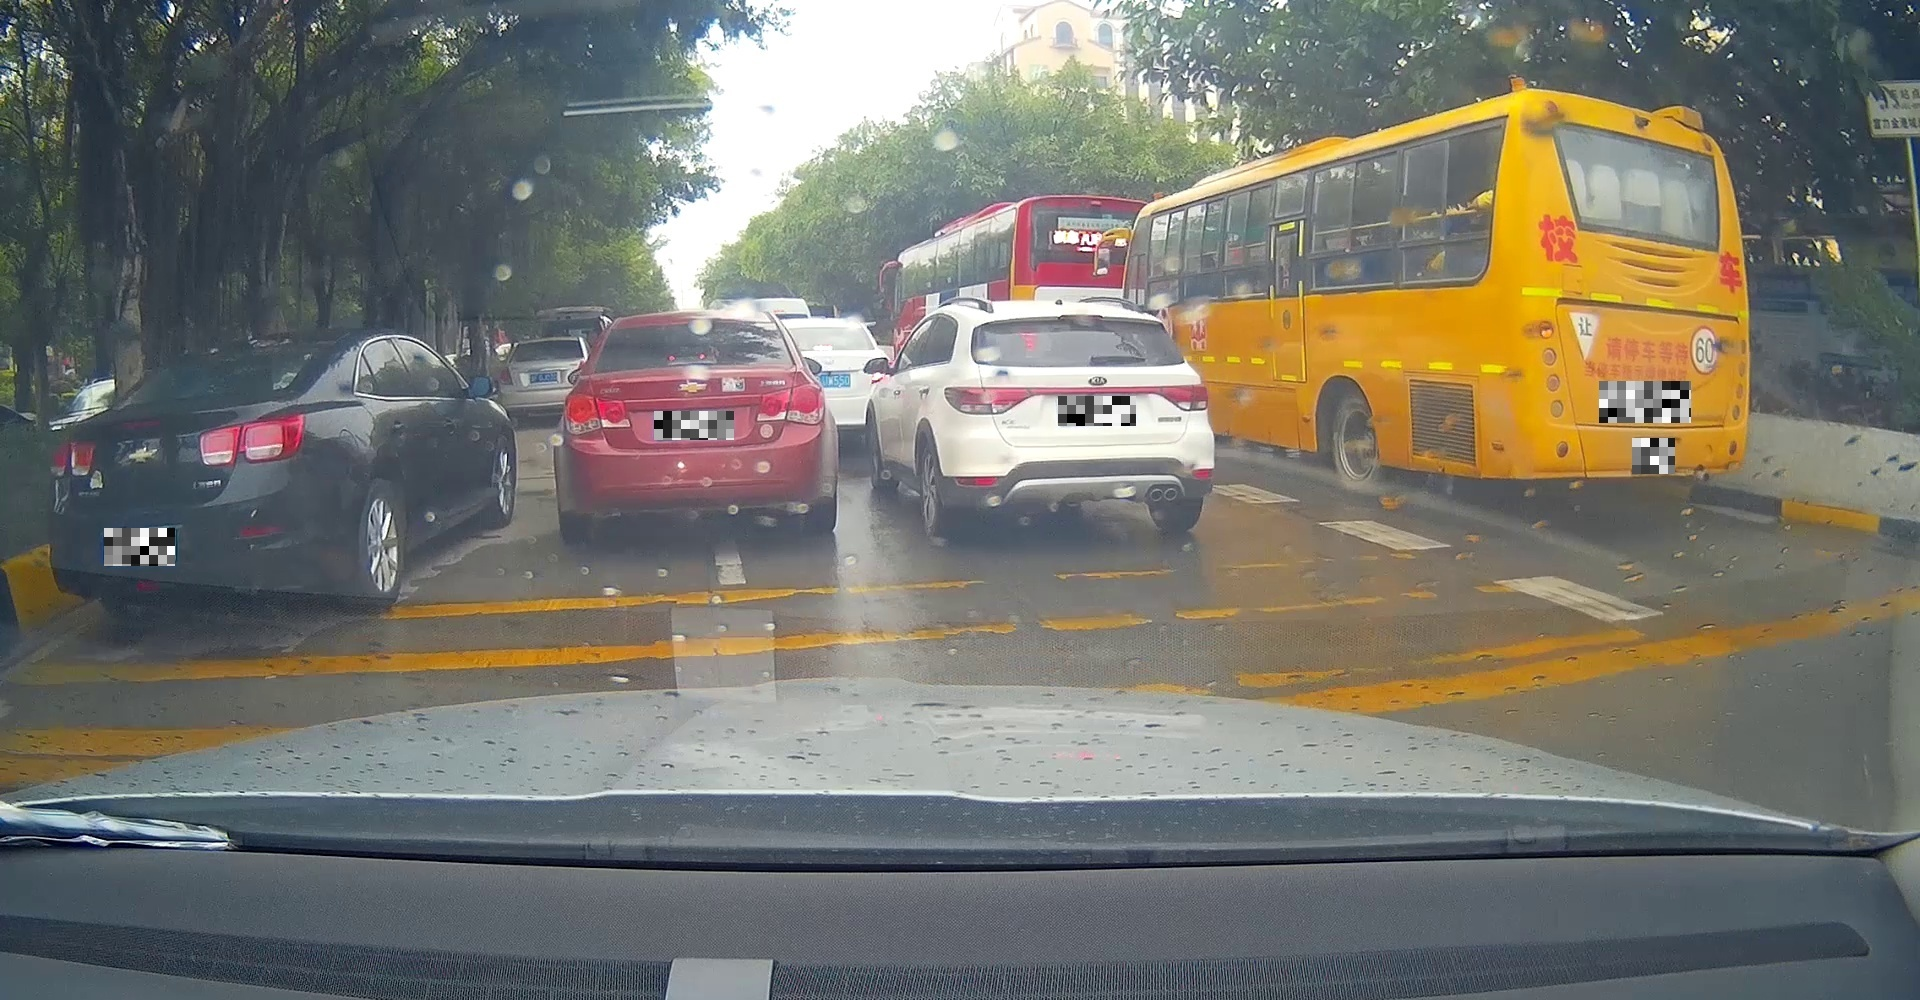L_light: (1537, 321, 1567, 419), (563, 392, 632, 434), (943, 388, 1032, 415), (50, 442, 94, 476)
R_light: (199, 414, 305, 466), (756, 385, 825, 426), (1730, 338, 1749, 423), (1158, 385, 1209, 411)
T_light: (1624, 218, 1663, 235), (1059, 313, 1103, 324), (668, 357, 716, 365), (231, 346, 269, 357)
day-no: (48, 329, 337, 619), (552, 310, 841, 543), (943, 299, 1215, 537)
night-left: (1517, 88, 1750, 494)
plate_1: (104, 528, 175, 566)
plate_2: (654, 411, 734, 440)
plate_3: (1058, 396, 1137, 426)
plate_4: (1599, 381, 1691, 423)
plate_5: (1632, 438, 1675, 475)
